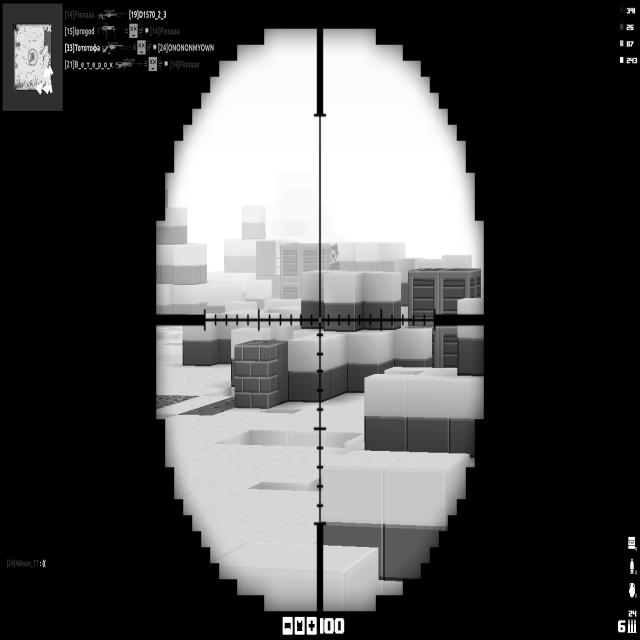Head: (330, 243, 339, 264)
Player: (330, 242, 340, 270)
